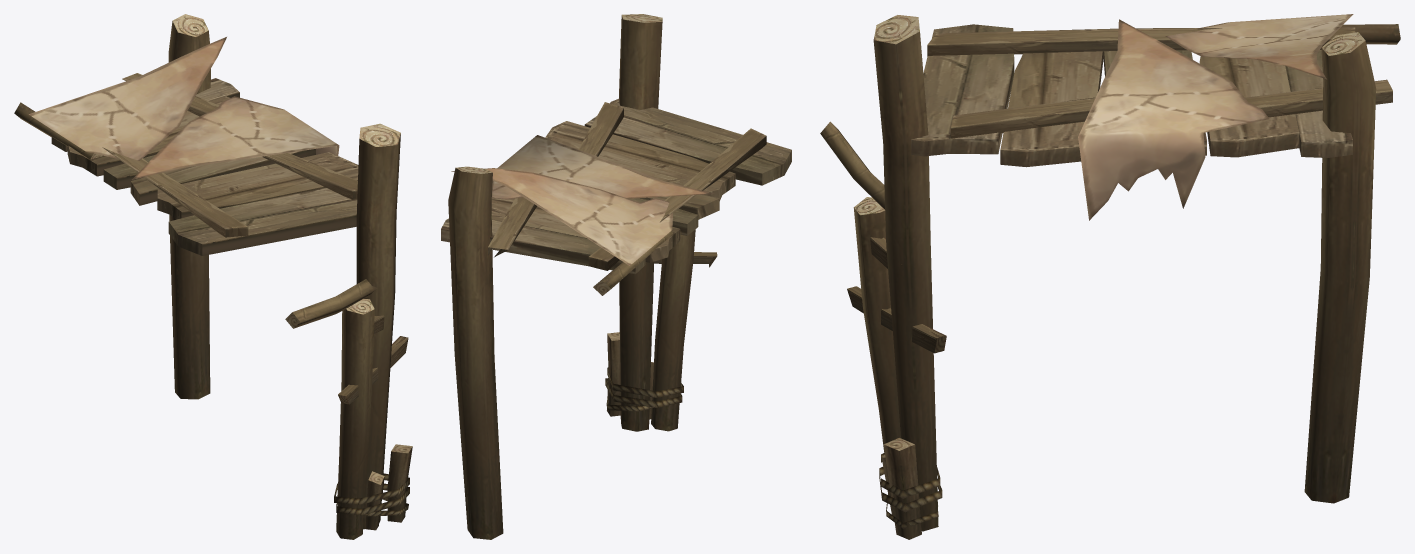
Rendered from fb_chisd_mujia_c.FBX.
3 views of the same model, side by side, from view 1: azimuth 30°, elevation 25°; view 2: azimuth 150°, elevation 25°; view 3: azimuth 270°, elevation 25° (orthographic). The views are drawn at different scales.
Parts seen in each view (by area): view 1: fb_chisd_mujia_c; view 2: fb_chisd_mujia_c; view 3: fb_chisd_mujia_c.
Part boxes in pixels (x1,y1,x2,y2): fb_chisd_mujia_c: [14, 14, 412, 539]; fb_chisd_mujia_c: [441, 14, 791, 539]; fb_chisd_mujia_c: [820, 14, 1400, 539].
Bounding box in the file's own units: 299 × 530 × 555.
